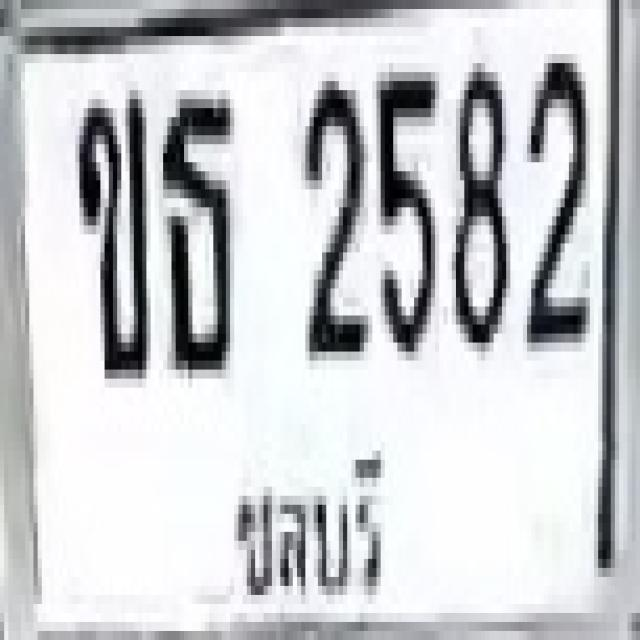2: (523, 50, 585, 338), (301, 72, 364, 352)
5: (372, 63, 431, 352)
8: (448, 54, 506, 343)
A02: (76, 90, 146, 370)
A24: (159, 90, 230, 370)
CBI: (225, 425, 396, 616)
